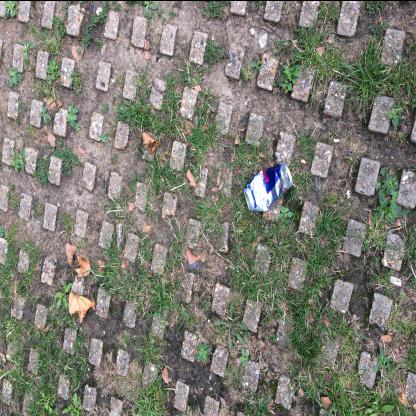metal: (243, 162, 293, 212)
